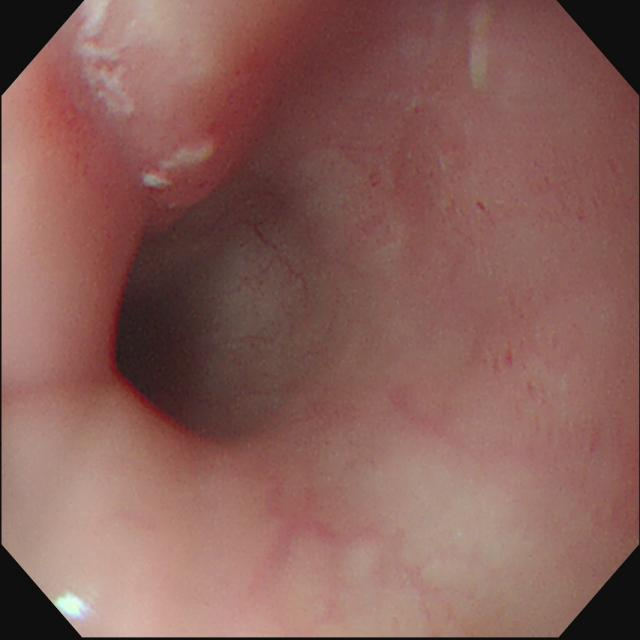A: (248, 220, 307, 289), (411, 104, 423, 118)
E: (96, 288, 218, 423)
J: (80, 2, 138, 119), (143, 144, 213, 192), (466, 2, 493, 93)
U: (55, 592, 90, 623)
